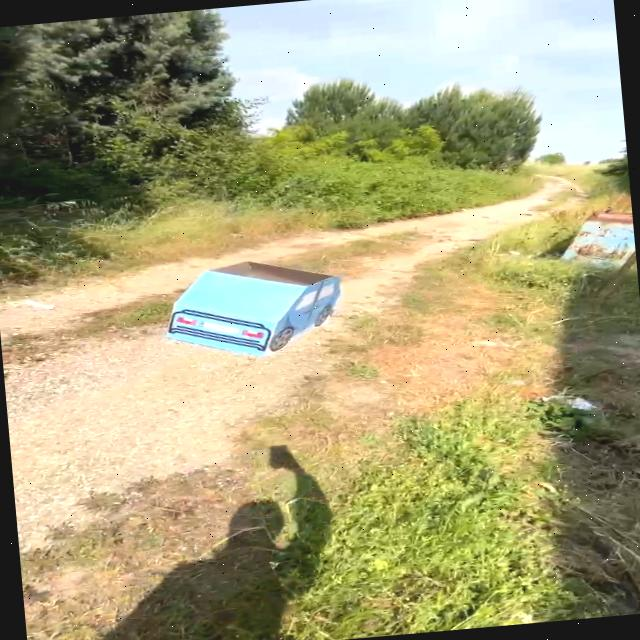blue_car: (148, 247, 365, 372)
